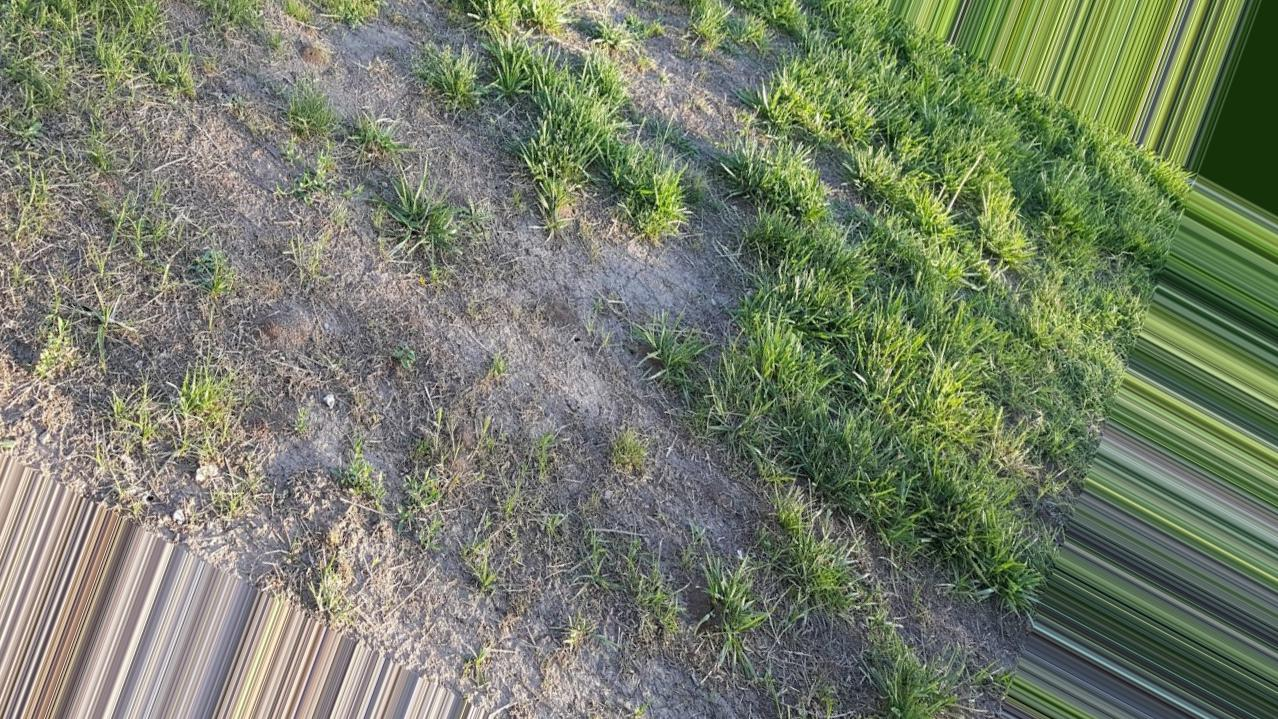patch: (96, 87, 676, 675)
